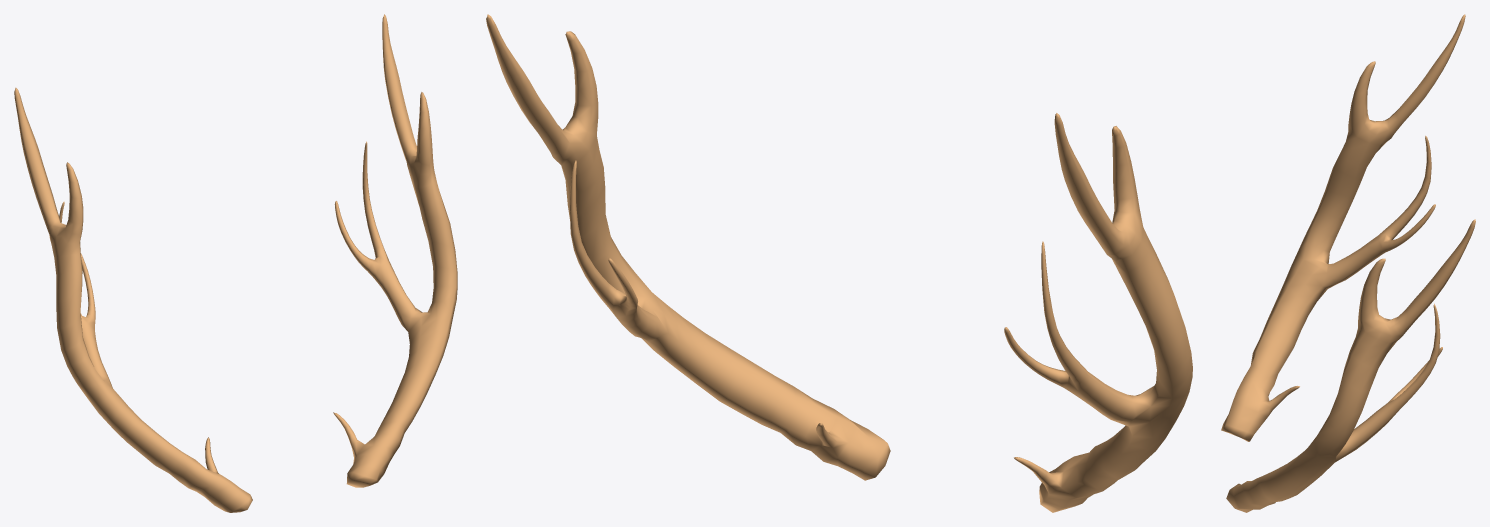
The model's file is antlers.glb.
The picture shows the model from 3 angles, left to right: view 1: azimuth 30°, elevation 25°; view 2: azimuth 150°, elevation 25°; view 3: azimuth 270°, elevation 25°; orthographic projection. The views are drawn at different scales.
Parts seen in each view (by area): view 1: Antlers.002; view 2: Antlers.002; view 3: Antlers.002.
Part boxes in pixels (<box>): Antlers.002: <box>14,14,457,512</box>; Antlers.002: <box>486,14,1192,512</box>; Antlers.002: <box>1221,14,1475,512</box>.
Bounding box in the file's own units: 0.5387 × 0.4901 × 0.2969.
Materials: 1 (1 with a texture image).
